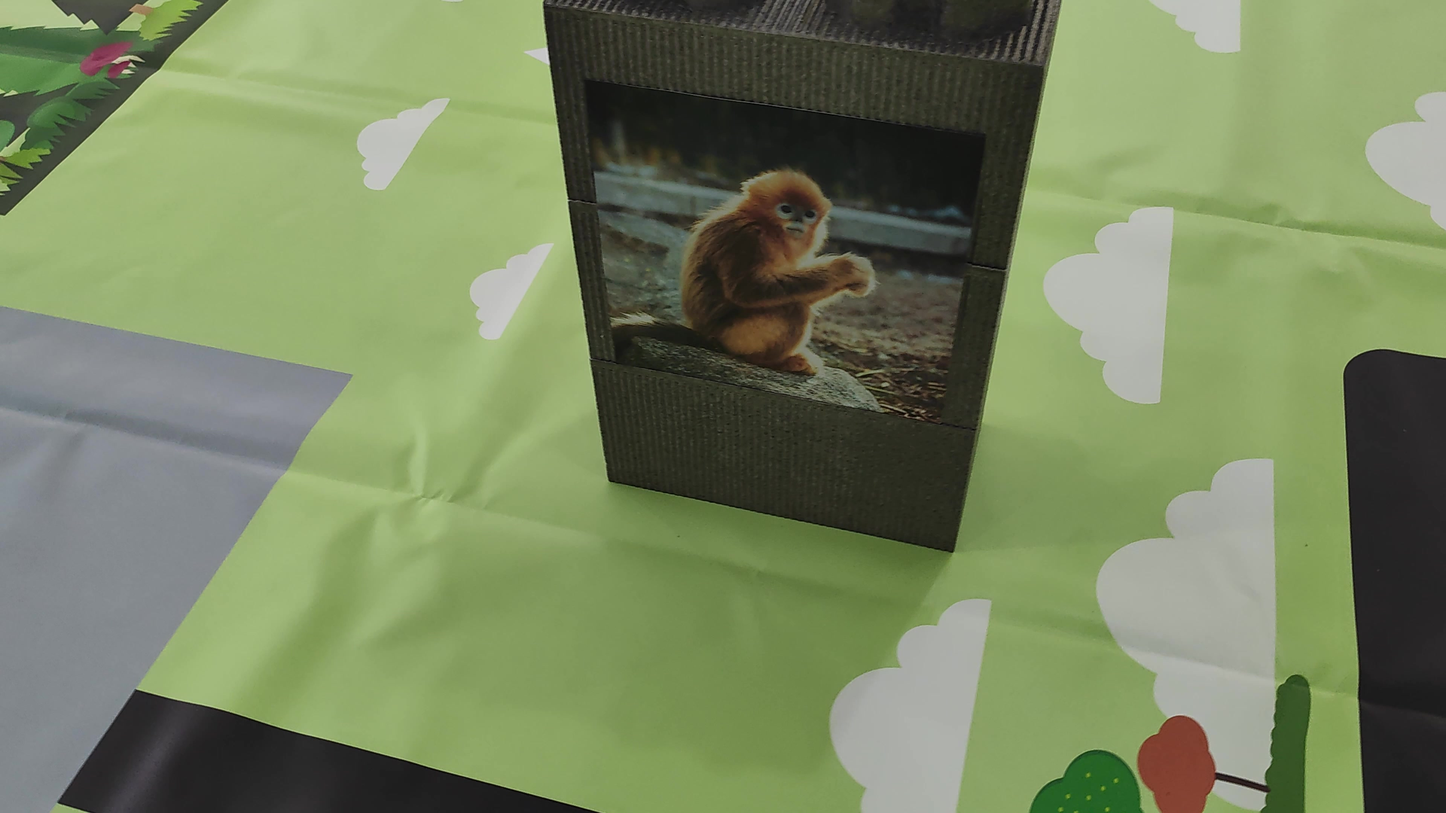monkey: (636, 115, 906, 397)
